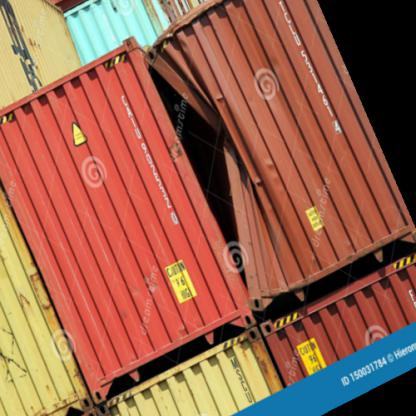Damage: (150, 58, 275, 281)
